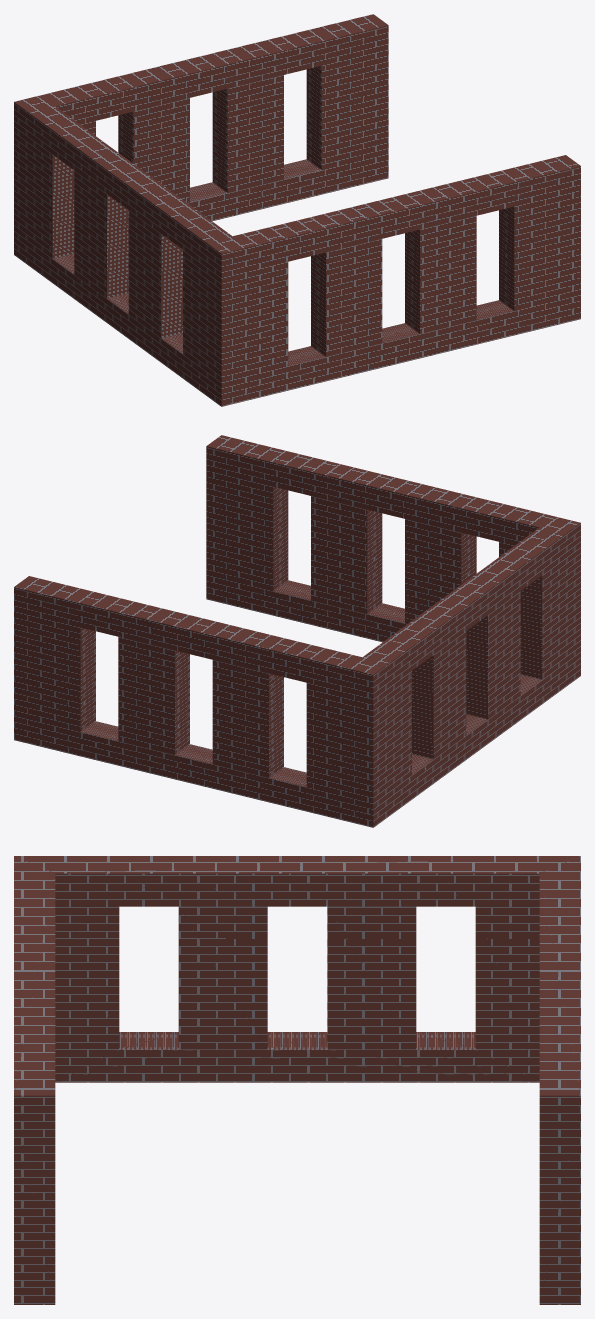
The model's file is BrickWall.fbx.
3 views of the same model, one above another, from view 1: azimuth 30°, elevation 25°; view 2: azimuth 150°, elevation 25°; view 3: azimuth 270°, elevation 25° (orthographic). The views are drawn at different scales.
Parts seen in each view (by area): view 1: Walls; view 2: Walls; view 3: Walls.
Part boxes in pixels (<box>): Walls: <box>14,14,580,406</box>; Walls: <box>14,435,580,827</box>; Walls: <box>14,856,580,1304</box>.
Size of the model in its own units: 1910 by 778 by 1910.
